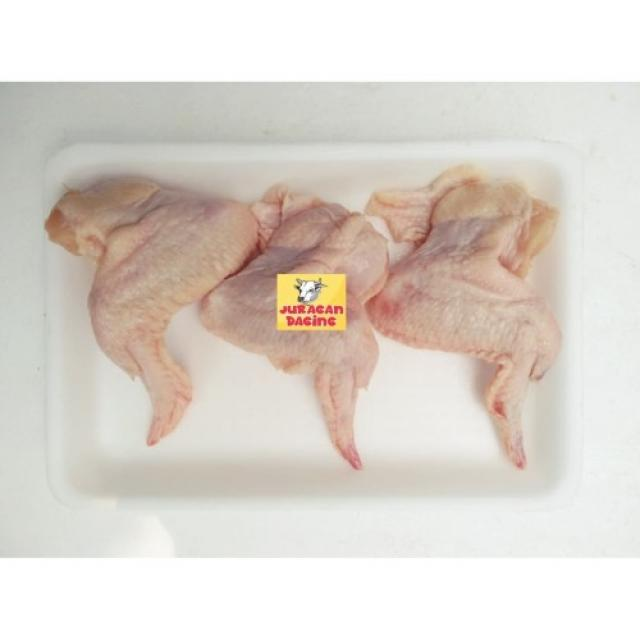chicken: (49, 178, 262, 448), (370, 169, 558, 471), (198, 198, 386, 474)
